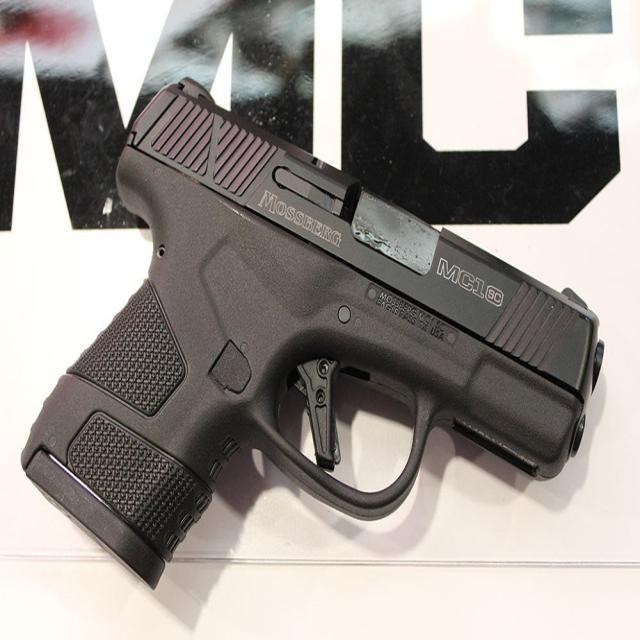HandGun: (20, 78, 605, 592)
